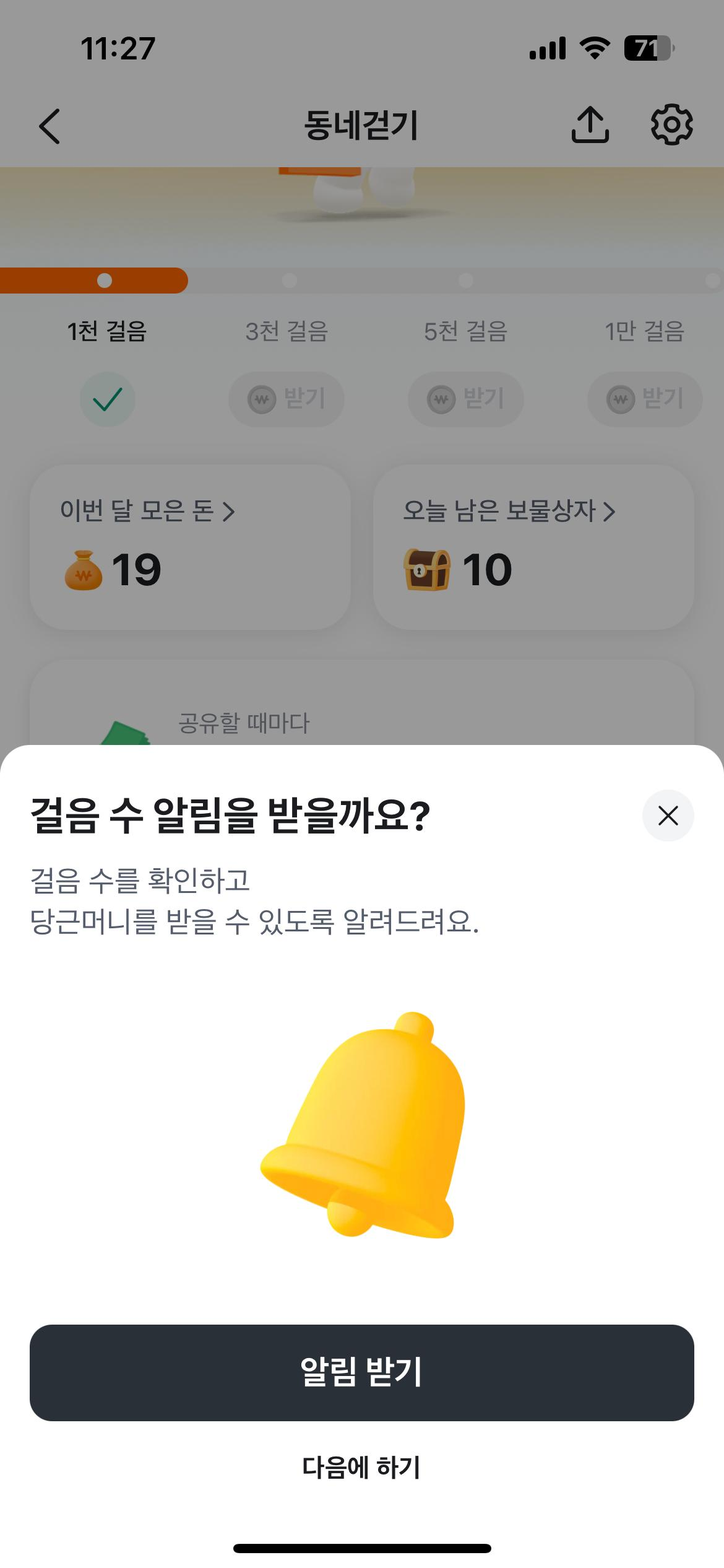button: (20, 1318, 703, 1431), (374, 458, 699, 627), (33, 460, 356, 627), (268, 1444, 449, 1499), (646, 91, 701, 157), (564, 97, 623, 154), (24, 95, 79, 154), (641, 789, 696, 847)
popup: (0, 737, 723, 1529)
